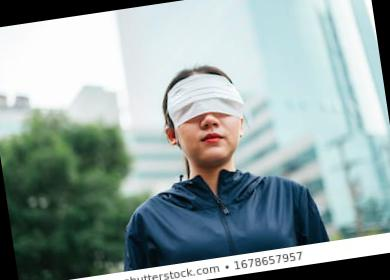mask_weared_incorrect: (173, 80, 243, 164)
